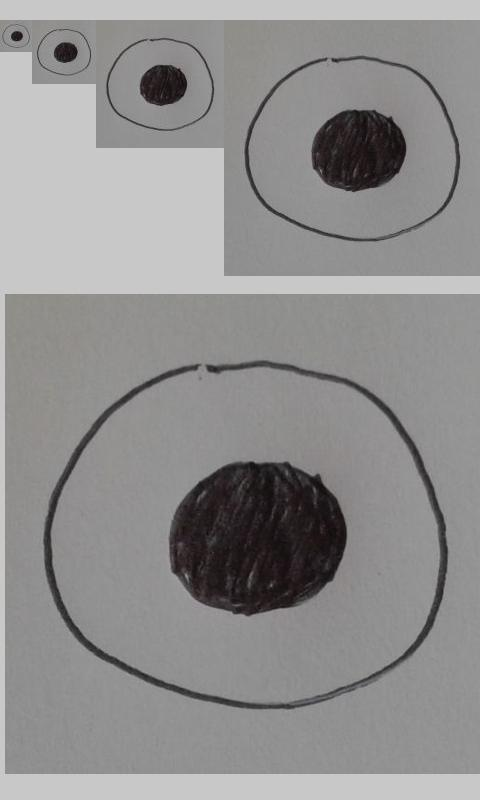radio_button: (42, 357, 451, 714), (241, 52, 463, 244), (105, 37, 216, 132), (36, 28, 92, 76), (1, 23, 31, 49)
